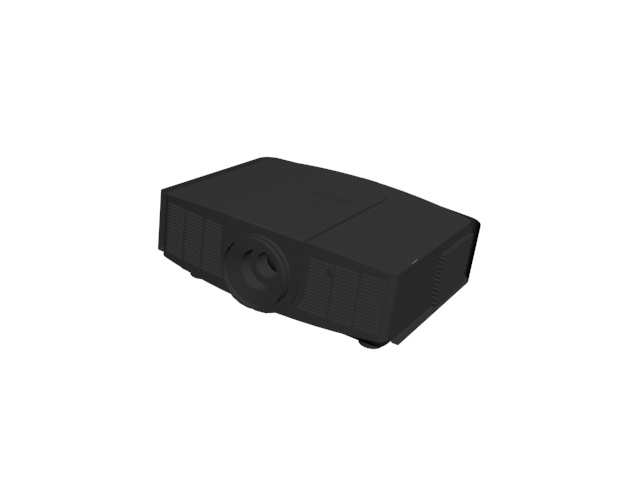projector: (153, 153, 488, 352)
